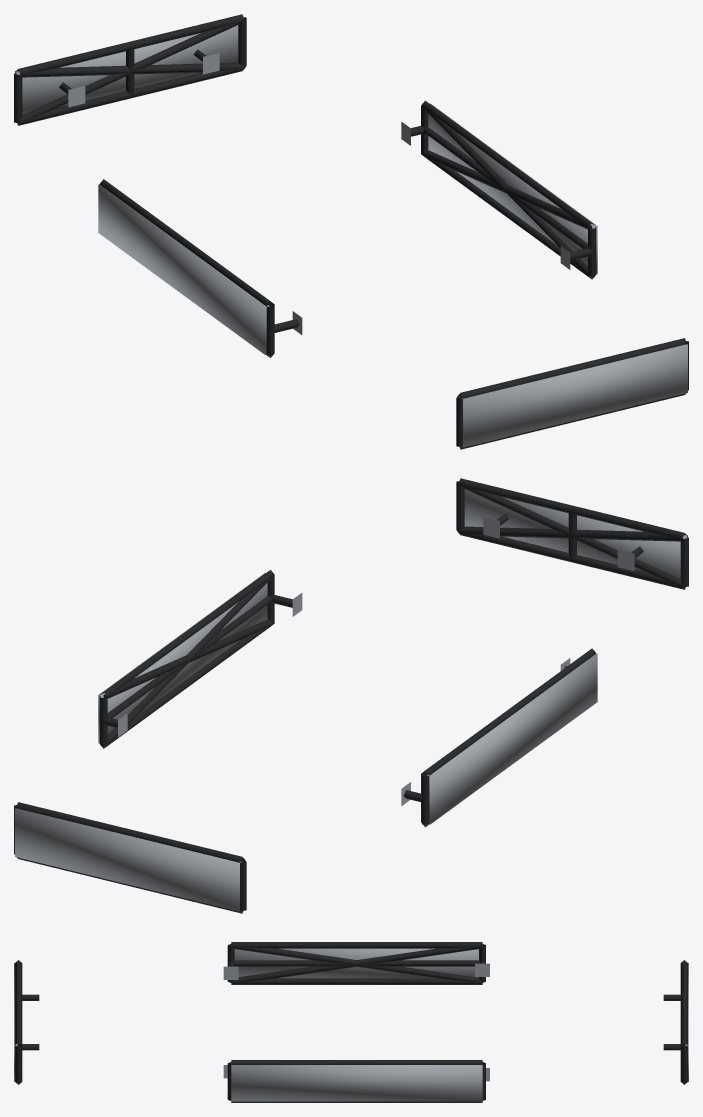
File: bancroft_marreta_protecao.glb
The picture shows the model from 3 angles, top to bottom: view 1: azimuth 30°, elevation 25°; view 2: azimuth 150°, elevation 25°; view 3: azimuth 270°, elevation 25°; orthographic projection. The views are drawn at different scales.
Parts seen in each view (by area): view 1: Protection_front_Level3_Details, Protection_left_Level3_Details, Protection_rear_Level1_Details, Protection_rear_Level3_Details, Protection_right_Level1_Details, Protection_right_Level2_Details, Protection_rear_Level2_Details, Protection_right_Level3_Details, Protection_front_Level1_Details, Protection_left_Level1_Details; view 2: Protection_rear_Level3_Details, Protection_left_Level3_Details, Protection_front_Level1_Details, Protection_front_Level3_Details, Protection_right_Level1_Details, Protection_right_Level2_Details, Protection_front_Level2_Details, Protection_right_Level3_Details, Protection_rear_Level1_Details, Protection_left_Level1_Details; view 3: Protection_right_Level3_Details, Protection_left_Level2_Details, Protection_left_Level3_Details, Protection_left_Level1_Details, Protection_right_Level1_Details, Protection_rear_Level1_Details, Protection_front_Level1_Details.
Boxes of the visible parts, bbox=[...] form: Protection_front_Level3_Details: bbox=[461, 344, 687, 447]; Protection_left_Level3_Details: bbox=[98, 184, 269, 354]; Protection_rear_Level1_Details: bbox=[14, 14, 246, 125]; Protection_rear_Level3_Details: bbox=[15, 25, 238, 114]; Protection_right_Level1_Details: bbox=[401, 100, 596, 279]; Protection_right_Level2_Details: bbox=[421, 107, 595, 279]; Protection_rear_Level2_Details: bbox=[15, 20, 244, 124]; Protection_right_Level3_Details: bbox=[428, 103, 597, 274]; Protection_front_Level1_Details: bbox=[456, 338, 688, 449]; Protection_left_Level1_Details: bbox=[99, 179, 302, 357]; Protection_rear_Level3_Details: bbox=[15, 808, 241, 911]; Protection_left_Level3_Details: bbox=[426, 653, 597, 824]; Protection_front_Level1_Details: bbox=[456, 478, 688, 589]; Protection_front_Level3_Details: bbox=[464, 489, 687, 578]; Protection_right_Level1_Details: bbox=[99, 570, 302, 748]; Protection_right_Level2_Details: bbox=[100, 576, 274, 748]; Protection_front_Level2_Details: bbox=[458, 484, 687, 588]; Protection_right_Level3_Details: bbox=[98, 573, 267, 743]; Protection_rear_Level1_Details: bbox=[14, 802, 246, 913]; Protection_left_Level1_Details: bbox=[401, 648, 595, 827]; Protection_right_Level3_Details: bbox=[231, 1065, 482, 1101]; Protection_left_Level2_Details: bbox=[231, 944, 482, 982]; Protection_left_Level3_Details: bbox=[234, 948, 478, 978]; Protection_left_Level1_Details: bbox=[223, 942, 489, 984]; Protection_right_Level1_Details: bbox=[223, 1060, 489, 1102]; Protection_rear_Level1_Details: bbox=[663, 960, 687, 1084]; Protection_front_Level1_Details: bbox=[15, 960, 39, 1084].
Size of the model in its own units: 2.16 by 0.354 by 5.05.
Materials: 1 (1 with a texture image).
